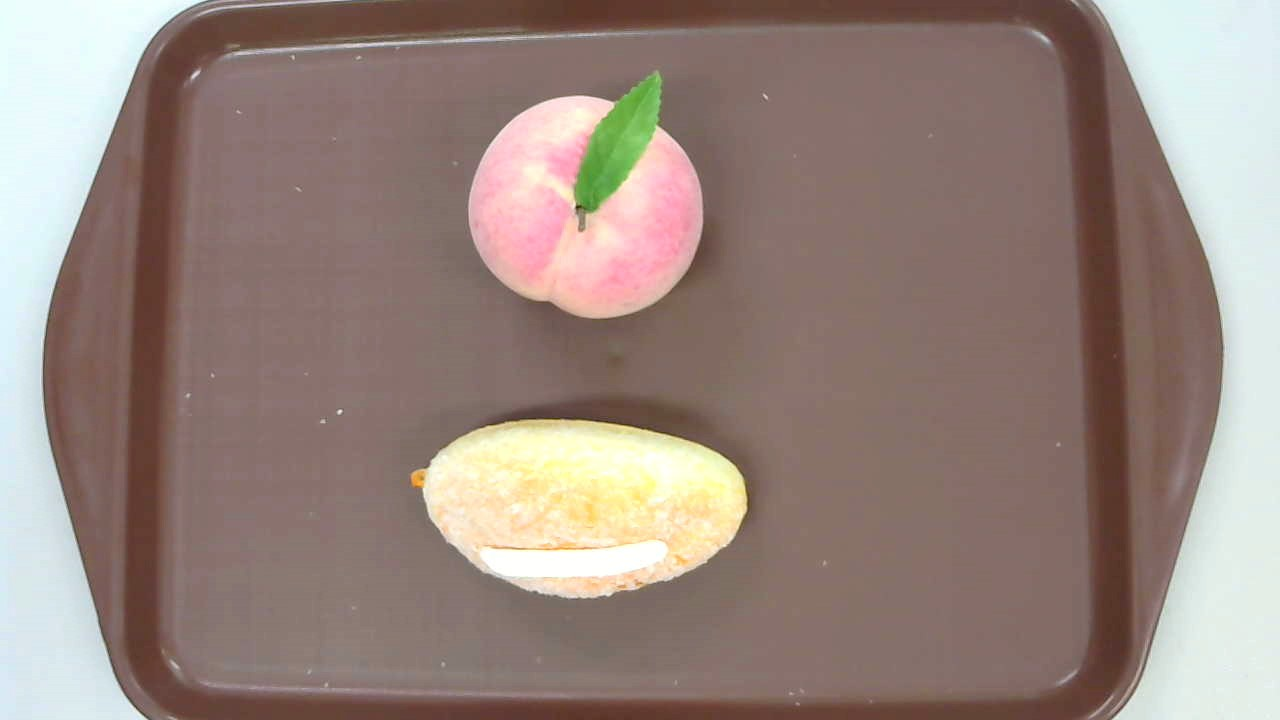coconut: (410, 417, 749, 600)
peach: (466, 69, 705, 322)
